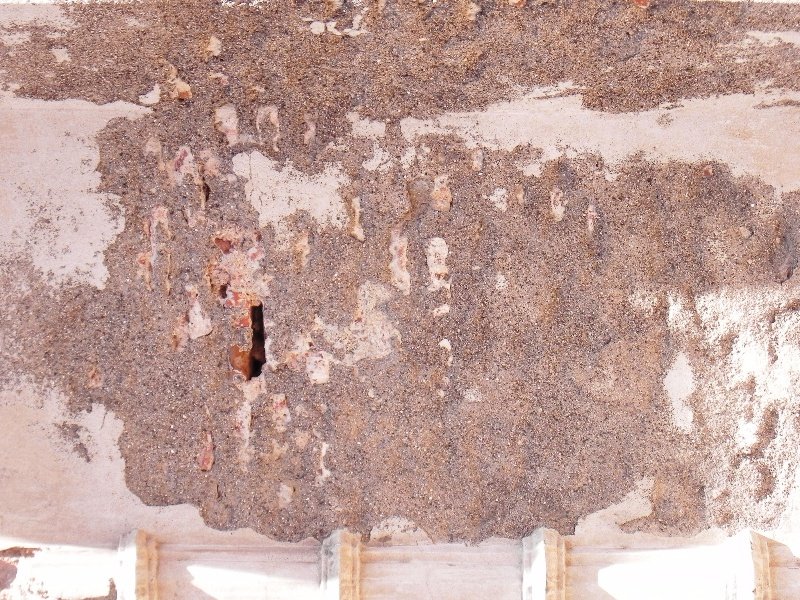Spalling: (64, 99, 770, 533)
